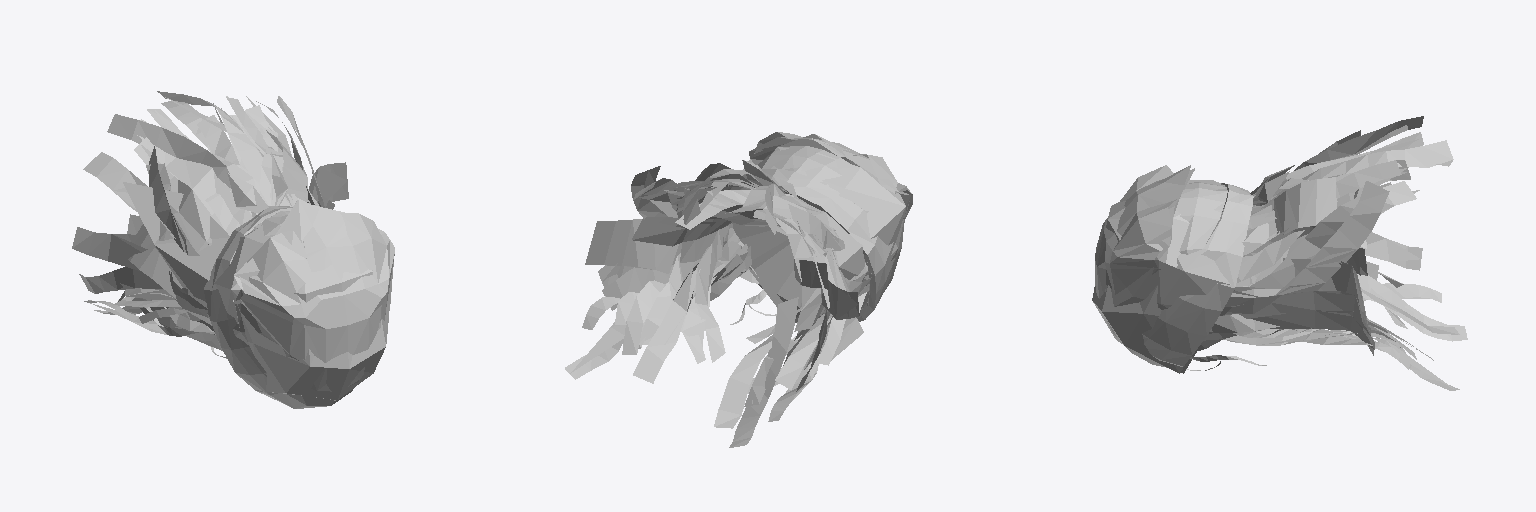
The model's file is hair_004_u.obj.
3 renders of one model, left to right at view 1: azimuth 30°, elevation 25°; view 2: azimuth 150°, elevation 25°; view 3: azimuth 270°, elevation 25°, orthographic.
Visible parts, largest first — view 1: hair_004_u_high_1, hair_004_u_high_2, hair_004_u_low_1, hair_004_u_med_1; view 2: hair_004_u_high_2, hair_004_u_high_1, hair_004_u_med_1, hair_004_u_low_1; view 3: hair_004_u_high_2, hair_004_u_high_1, hair_004_u_med_1, hair_004_u_low_1.
Boxes of the visible parts, x1,y1,x2,y2 form: hair_004_u_high_1: [204, 152, 394, 408]; hair_004_u_high_2: [72, 91, 348, 358]; hair_004_u_low_1: [123, 182, 388, 400]; hair_004_u_med_1: [90, 96, 394, 349]; hair_004_u_high_2: [565, 163, 871, 447]; hair_004_u_high_1: [732, 132, 912, 321]; hair_004_u_med_1: [570, 137, 910, 403]; hair_004_u_low_1: [744, 134, 905, 310]; hair_004_u_high_2: [1186, 116, 1467, 390]; hair_004_u_high_1: [1095, 165, 1293, 367]; hair_004_u_med_1: [1105, 138, 1453, 388]; hair_004_u_low_1: [1092, 165, 1285, 373].
Bounding box in the file's own units: 0.3481 × 0.2661 × 0.4106.